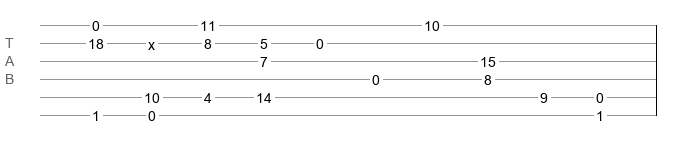0: (92, 18, 100, 28), (148, 108, 156, 118), (316, 36, 324, 46), (372, 72, 380, 82), (596, 90, 604, 100)
1: (92, 108, 100, 118), (596, 108, 604, 118)
10: (144, 90, 160, 100), (424, 18, 440, 28)
11: (200, 18, 216, 28)
14: (256, 90, 272, 100)
15: (480, 54, 496, 64)
18: (88, 36, 104, 46)
4: (204, 90, 212, 100)
5: (260, 36, 268, 46)
7: (260, 54, 268, 64)
8: (204, 36, 212, 46), (484, 72, 492, 82)
9: (540, 90, 548, 100)
x: (148, 37, 155, 45)
